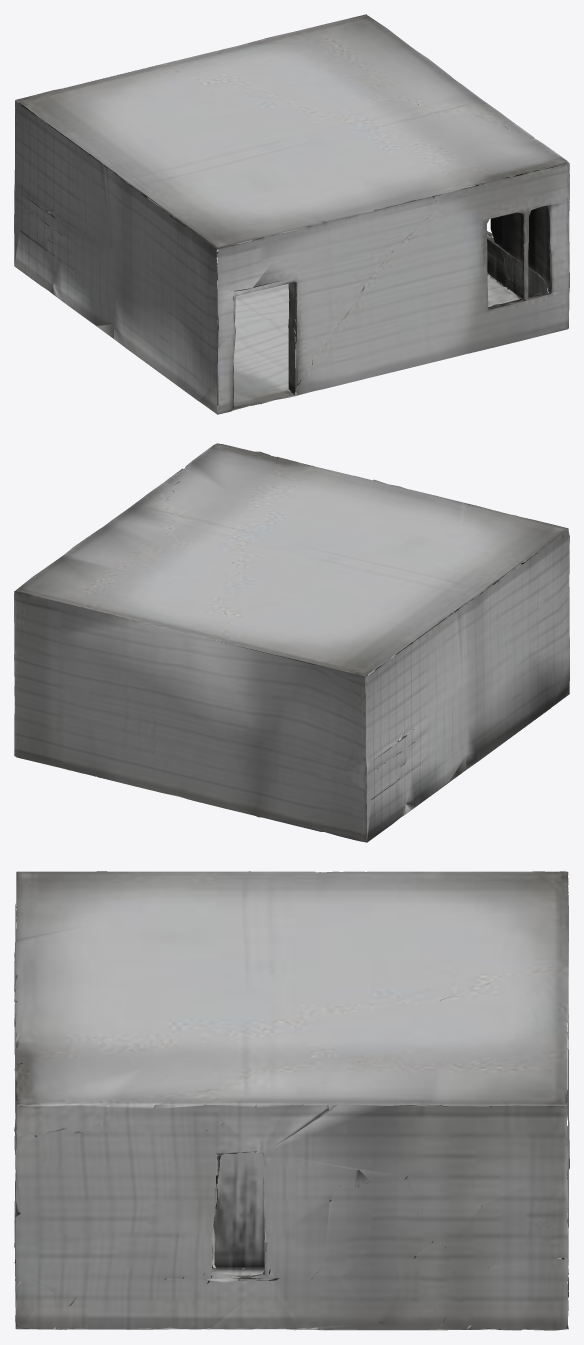
Rendered from tile_stall.glb.
The picture shows the model from 3 angles, top to bottom: view 1: azimuth 30°, elevation 25°; view 2: azimuth 150°, elevation 25°; view 3: azimuth 270°, elevation 25°; orthographic projection. The views are drawn at different scales.
Parts seen in each view (by area): view 1: Mesh_0; view 2: Mesh_0; view 3: Mesh_0.
Part boxes in pixels (x1=…): Mesh_0: x1=14, y1=14, x2=569, y2=414; Mesh_0: x1=14, y1=443, x2=569, y2=842; Mesh_0: x1=14, y1=871, x2=569, y2=1330.
Size of the model in its own units: 2 by 0.9107 by 2.
Materials: 1 (1 with a texture image).
